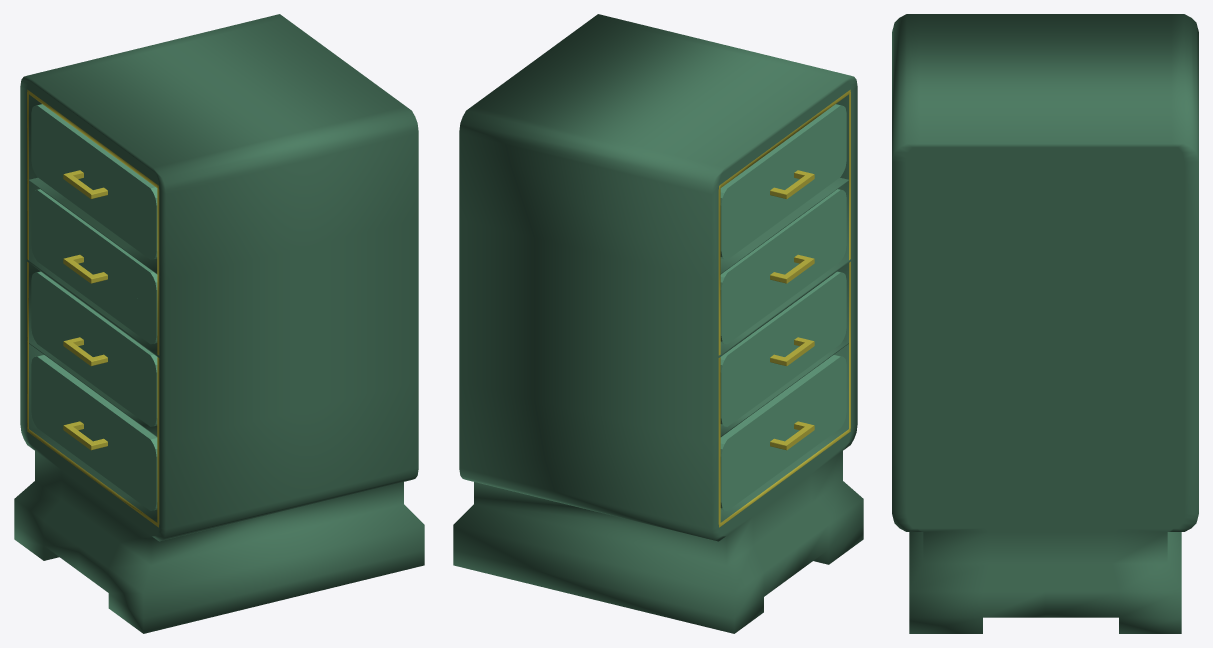
Rendered from Gaveteiro.fbx.
3 renders of one model, left to right at view 1: azimuth 30°, elevation 25°; view 2: azimuth 150°, elevation 25°; view 3: azimuth 270°, elevation 25°, orthographic. The views are drawn at different scales.
Parts seen in each view (by area): view 1: Gaveteiro, Gaveta; view 2: Gaveteiro, Gaveta; view 3: Gaveteiro.
Part boxes in pixels (<box>): Gaveteiro: <box>14,14,424,633</box>; Gaveta: <box>31,104,157,510</box>; Gaveteiro: <box>453,14,863,633</box>; Gaveta: <box>720,104,846,510</box>; Gaveteiro: <box>892,14,1198,633</box>.
Size of the model in its own units: 112 by 100 by 174.
